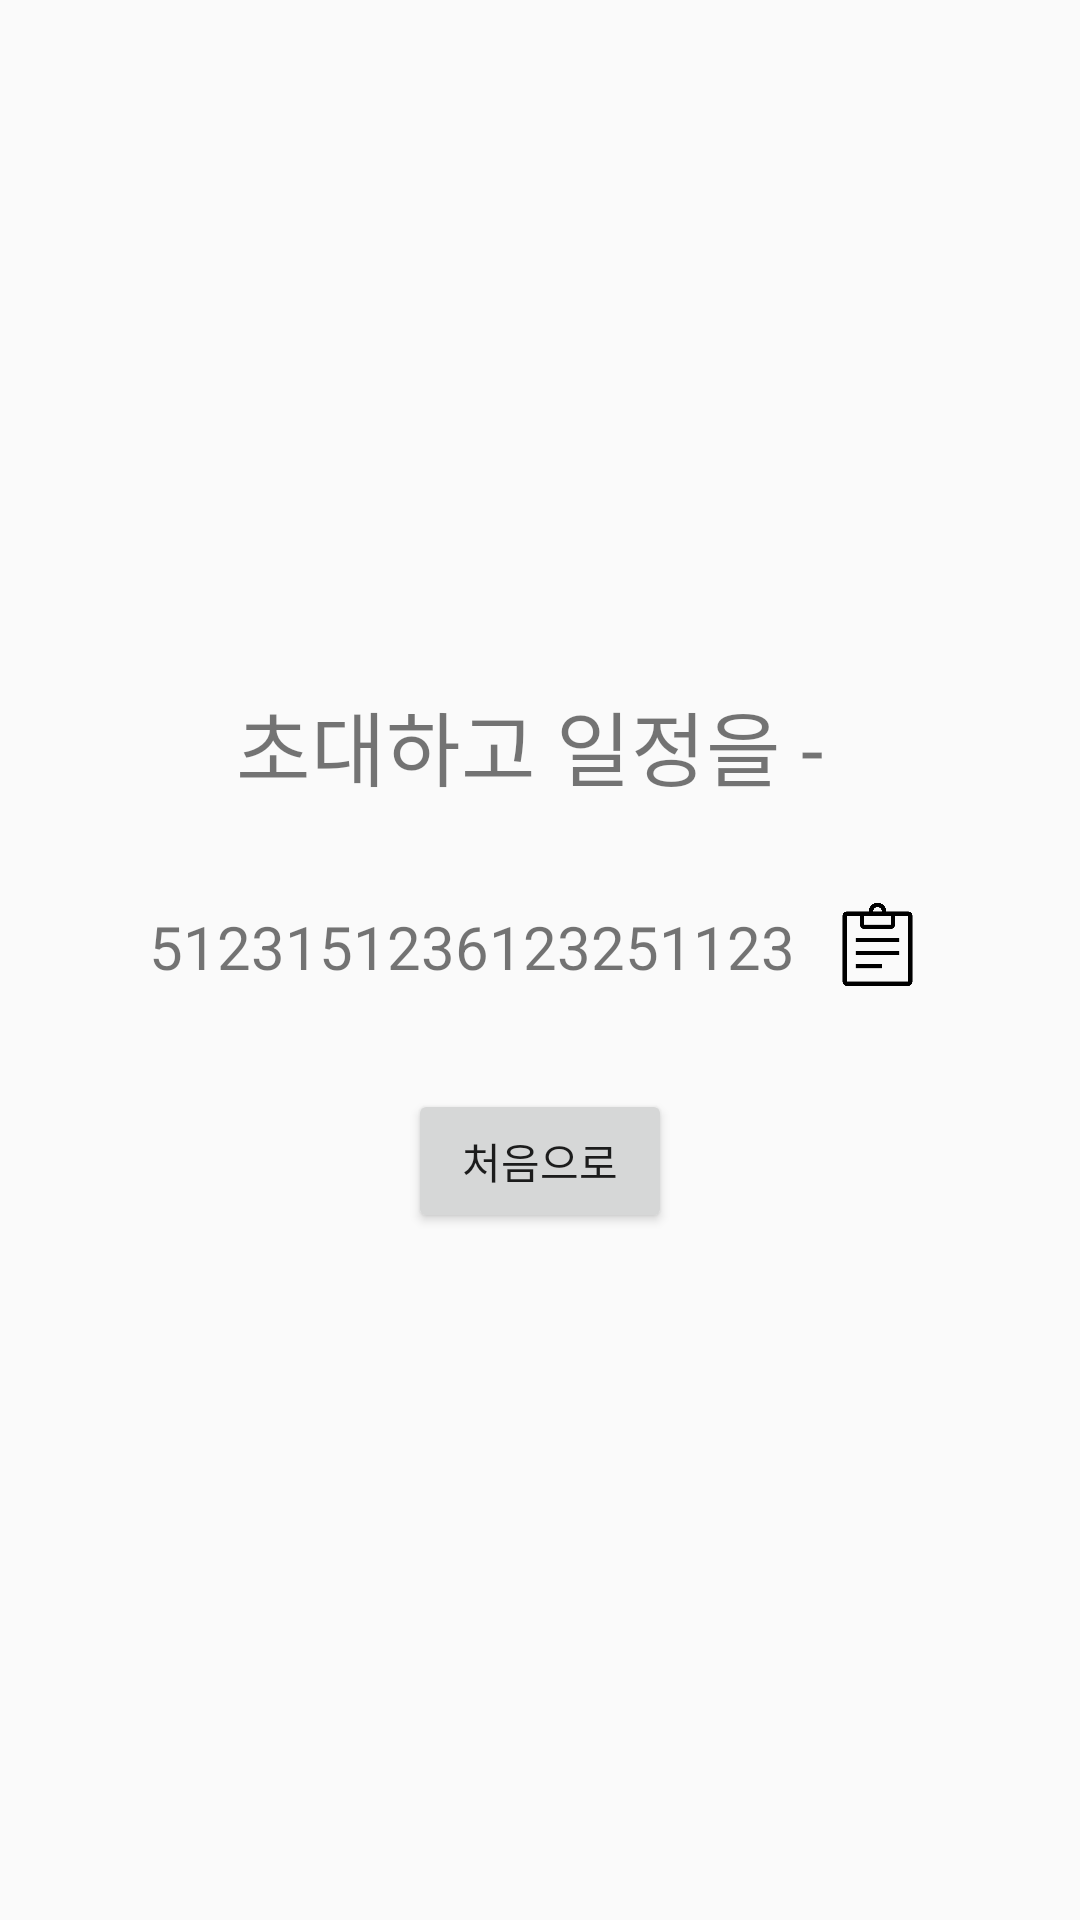

Screen size 1080px x 1920px. Icon name, then its box in pixels as {"x1": x1, "y1": y1, "x2": x2, "y2": y2}:
clipboard: {"x1": 842, "y1": 903, "x2": 913, "y2": 986}
